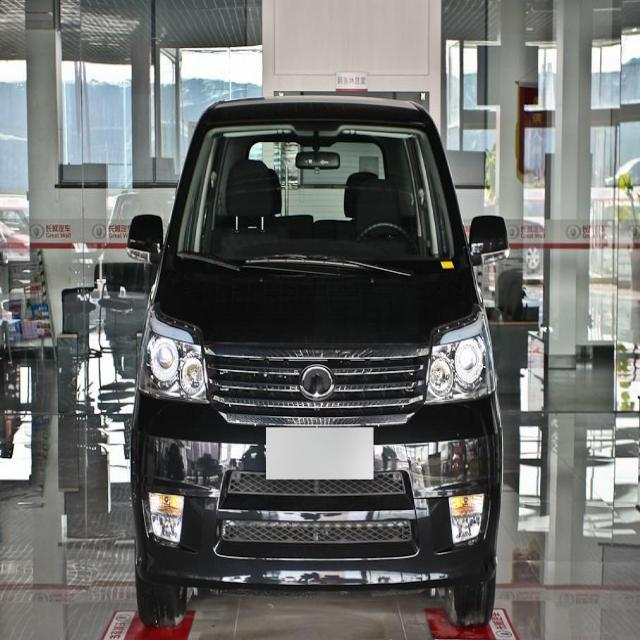front_bumper: (131, 403, 501, 591)
front_glass: (175, 119, 457, 280)
front_left_side_light: (422, 306, 498, 410)
front_left_side_mirror: (464, 207, 512, 270)
front_right_side_light: (138, 316, 215, 410)
front_right_side_mirror: (124, 205, 166, 266)
